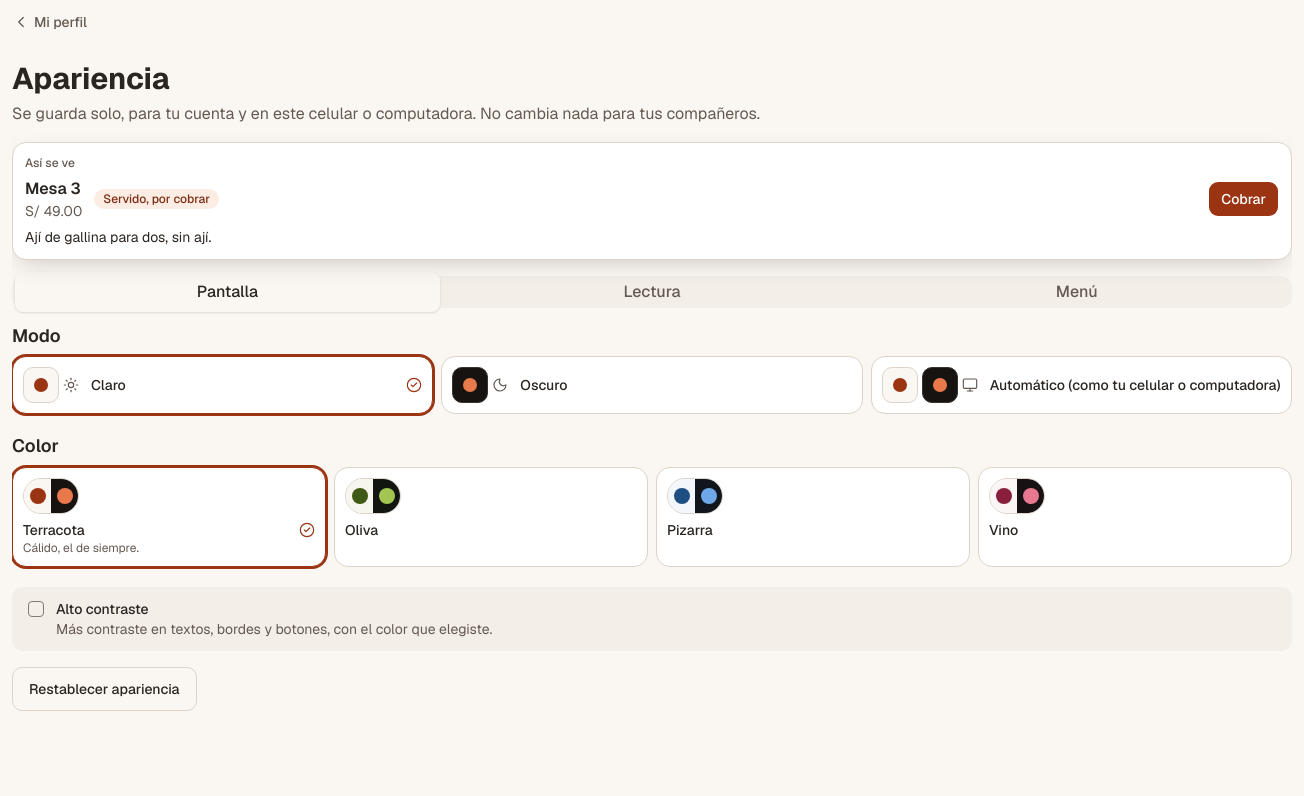
Test case: AppearanceView: pestaña Menú › «Bajar» y «Subir» del «⋯» reordenan dentro del grupo, se anuncia el lugar y el orden se guarda
The image size is (1304, 796).
Click the tab "Menú": (1077, 292) [864,272,1289,312]
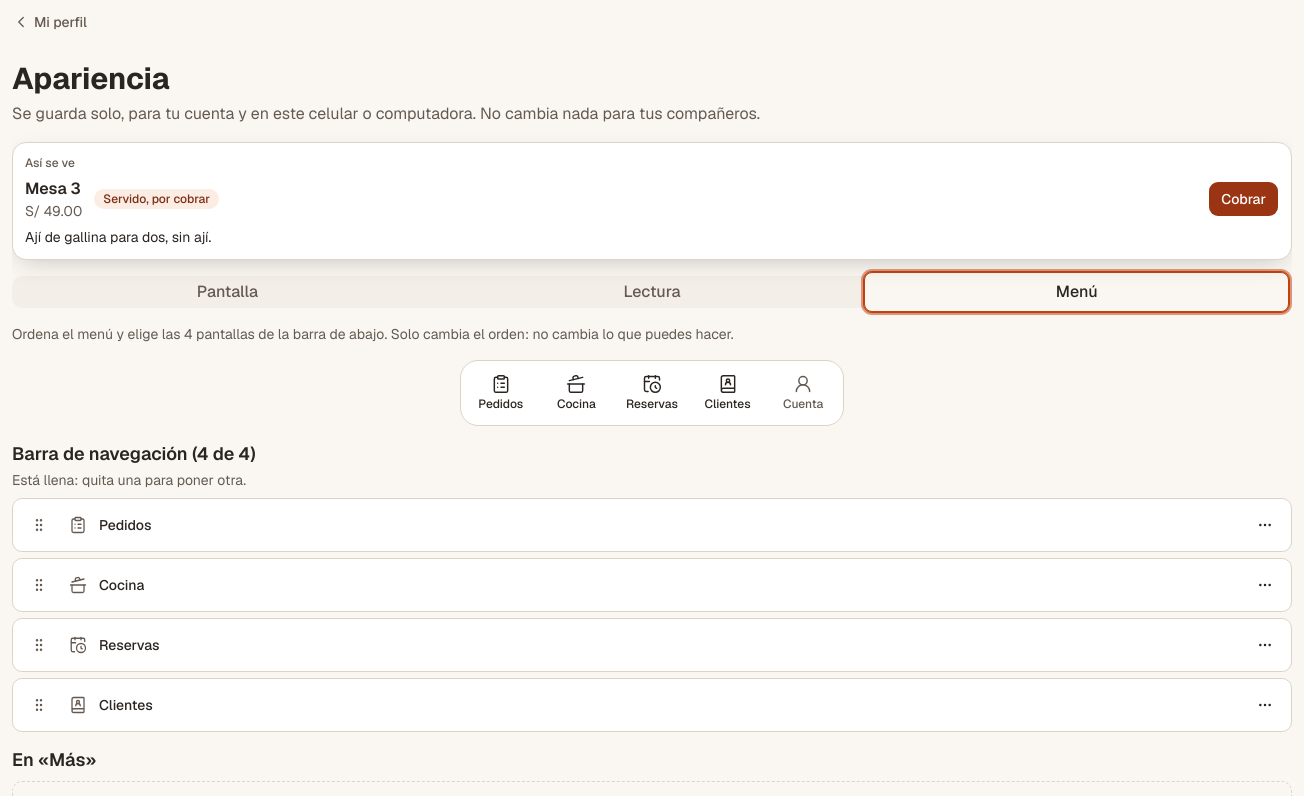
Click the button named "Acciones de Pedidos": (1265, 525) [1243,503,1287,547]
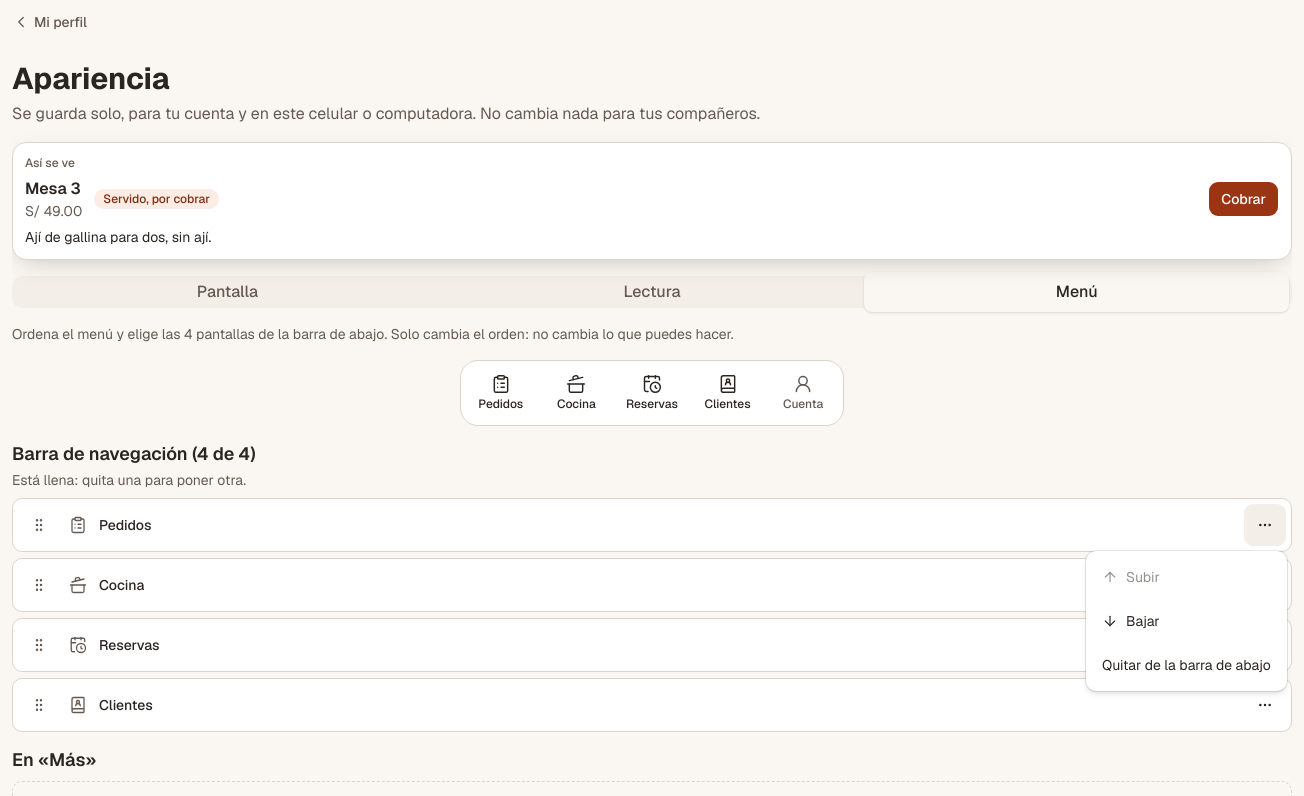
Click the menu item "Bajar": (1131, 621) [1102,612,1160,630]
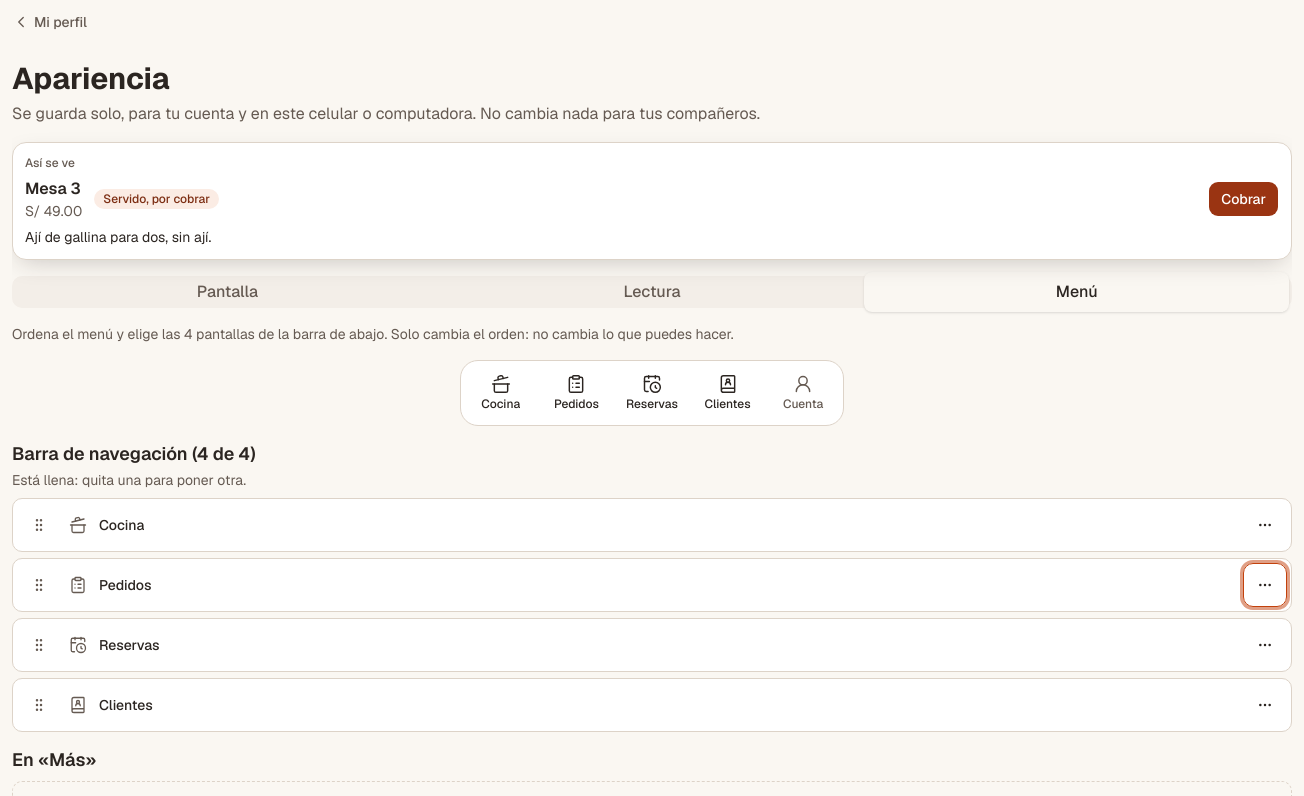
Check: the menu is gone
Click the button named "Acciones de Pedidos": (1265, 585) [1243,563,1287,607]
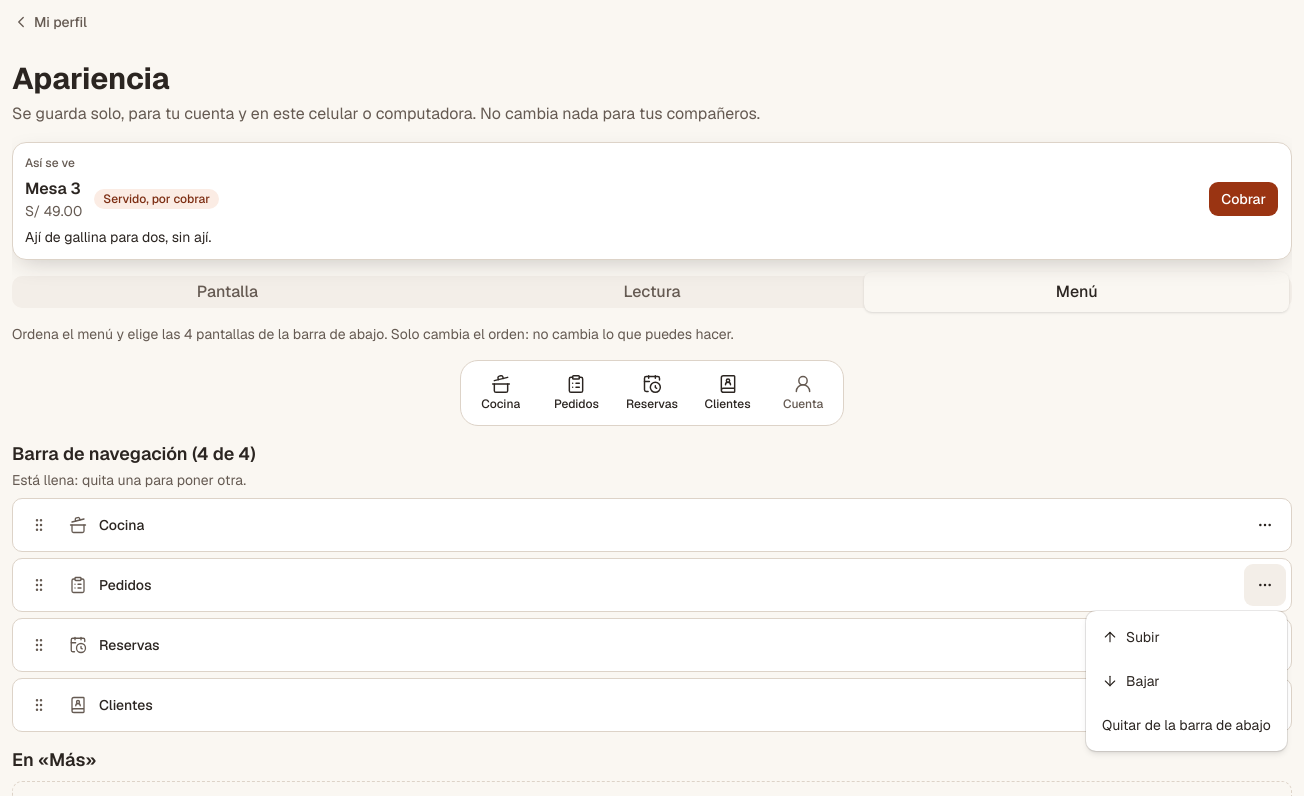
Click the menu item "Subir": (1131, 637) [1102,628,1160,646]
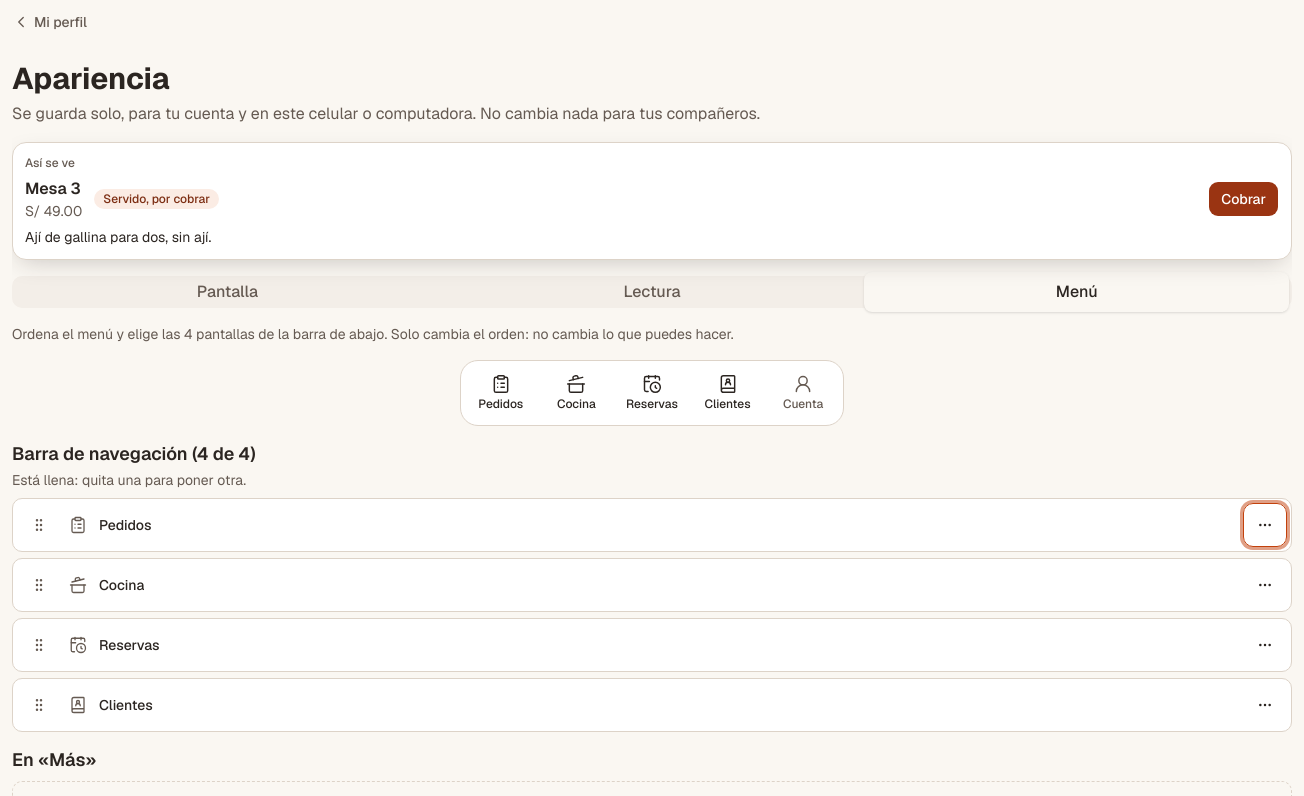
Check: the menu is gone
